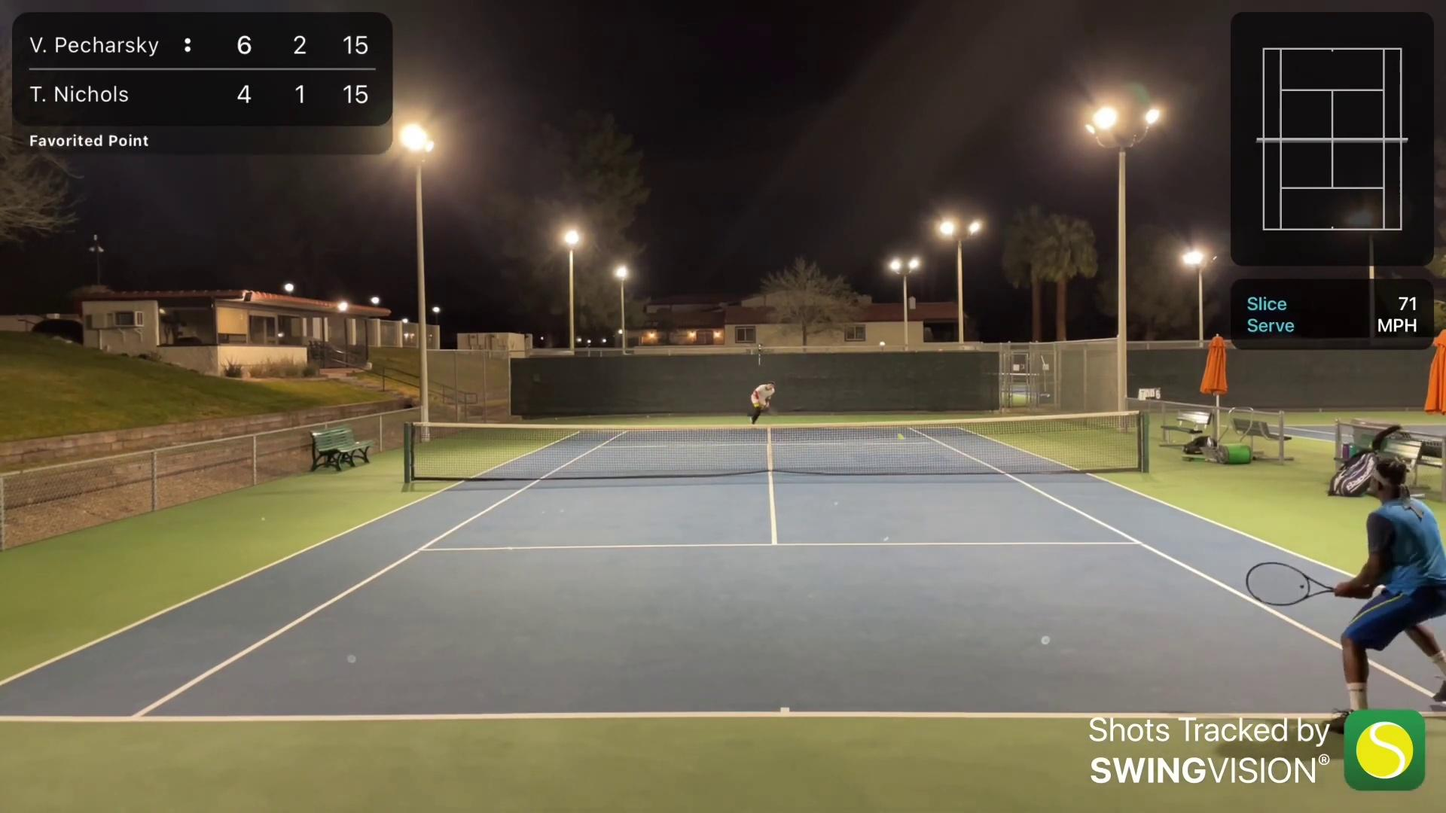ball: (892, 431, 910, 445)
